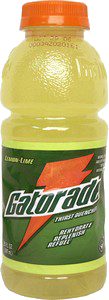grozi_15: (0, 0, 108, 299)
